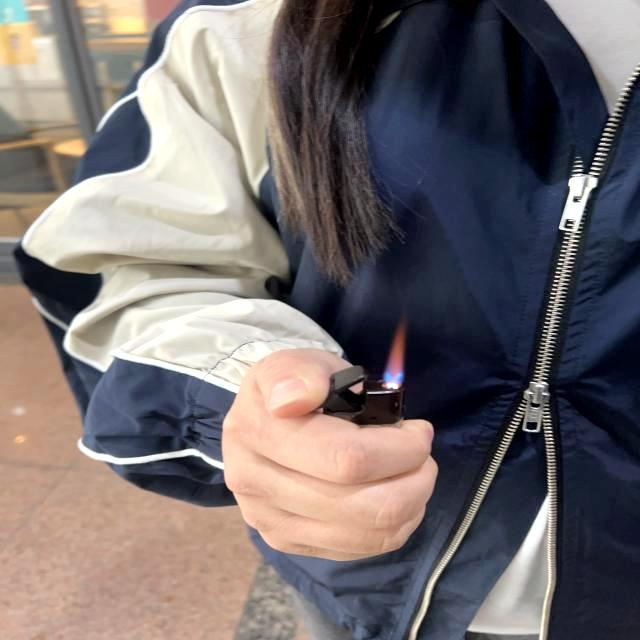fire: (384, 322, 408, 388)
